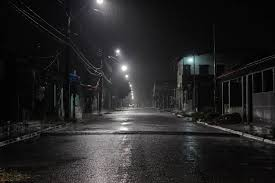strada: (2, 125, 266, 182)
